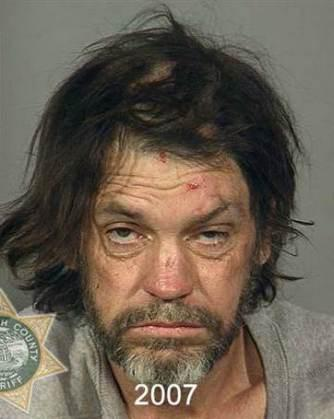Drunk: (104, 147, 243, 366)
